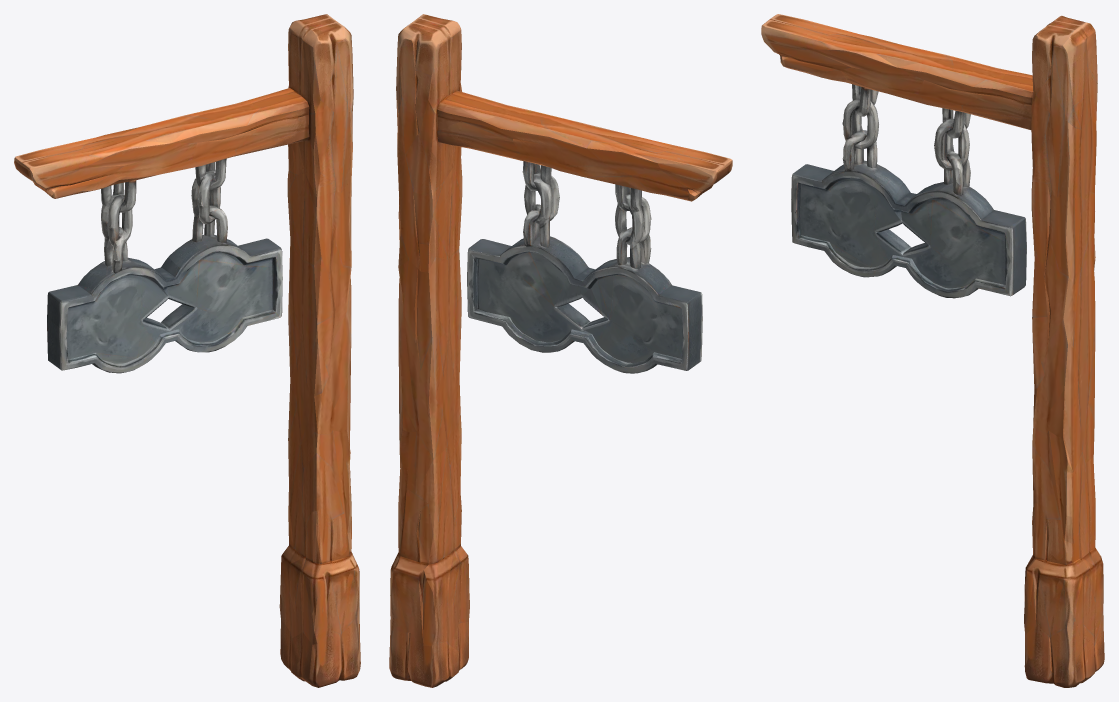
Rendered from cartel_fish.glb.
3 renders of one model, left to right at view 1: azimuth 30°, elevation 25°; view 2: azimuth 150°, elevation 25°; view 3: azimuth 330°, elevation 25°, orthographic.
Visible parts, largest first — view 1: output_unwrapped; view 2: output_unwrapped; view 3: output_unwrapped.
Boxes of the visible parts, box(x1,y1,x2,y2) form: output_unwrapped: box(14, 14, 360, 687); output_unwrapped: box(389, 14, 732, 687); output_unwrapped: box(761, 14, 1104, 687).
Bounding box in the file's own units: 0.9938 × 1.9 × 0.1911.
1 material, 1 textured.
